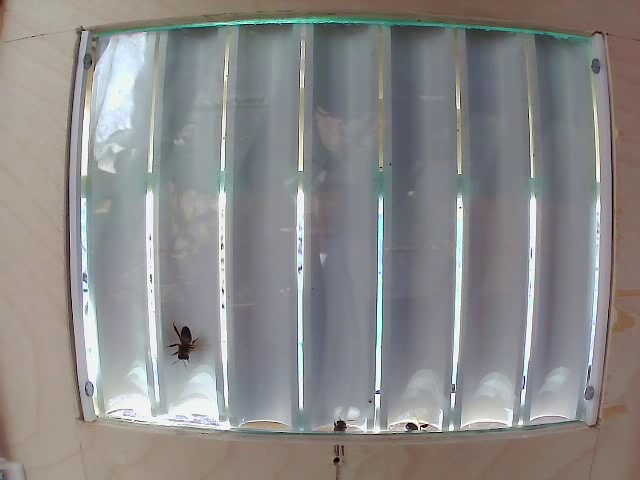bee: (162, 315, 201, 365)
